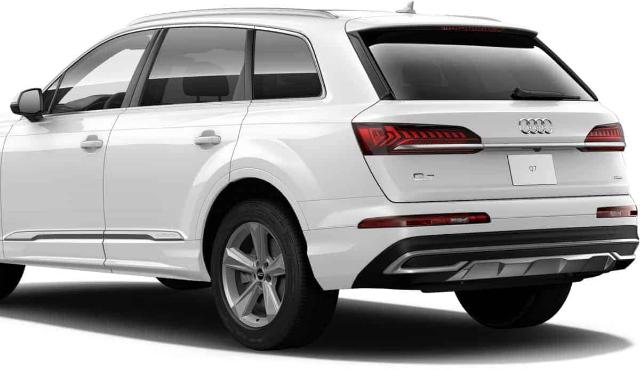audi: (0, 0, 640, 354)
